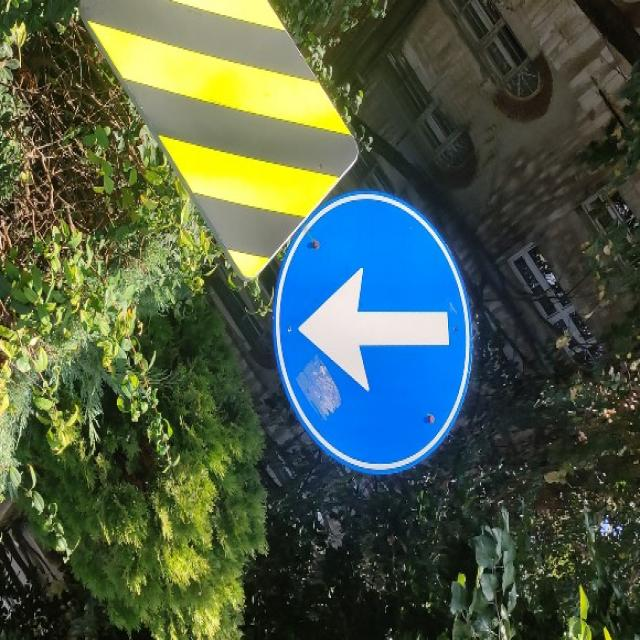Turn Left: (271, 190, 473, 476)
